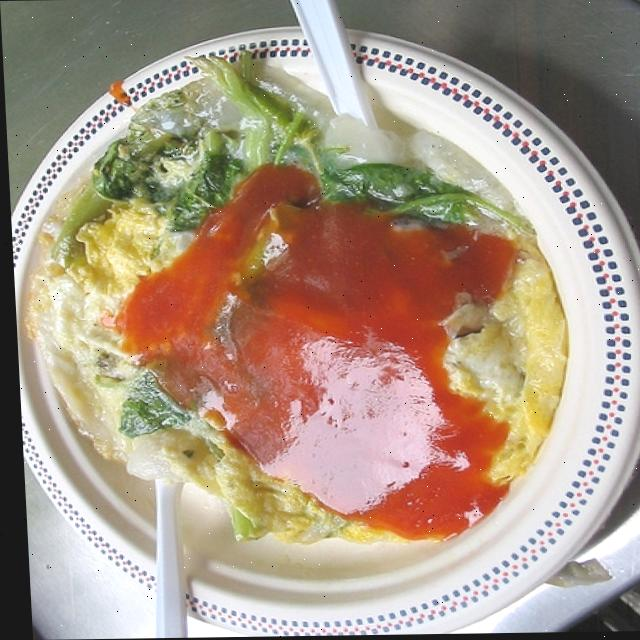熟制海鲜: (1, 5, 640, 626)
